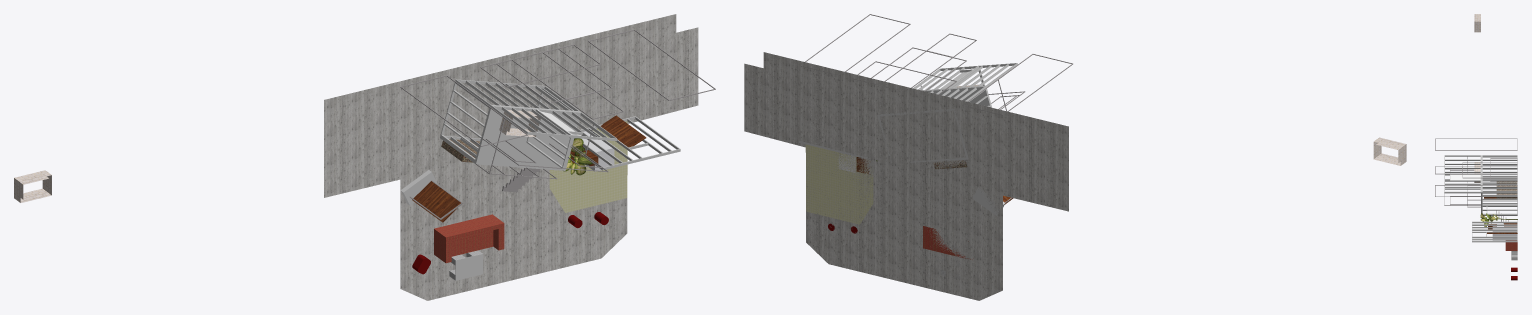
The picture shows the model from 3 angles, left to right: view 1: azimuth 30°, elevation 25°; view 2: azimuth 150°, elevation 25°; view 3: azimuth 270°, elevation 25°; orthographic projection. The views are drawn at different scales.
Parts seen in each view (by area): view 1: Set.621, Set.706, Set.610, Set.611, Set.646, Set.616, Set.609, Set.636, Set.613, Set.612, Set.658, Set.671; view 2: Set.621, Set.610, Set.609, Set.616; view 3: Set.635, Set.671, Set.411, Set.713, Set.641, Set.652, Set.609, Set.615, Set.735, Set.739, Set.682, Set.695 (+40 smaller).
Boxes of the visible parts, bbox=[...] form: Set.621: bbox=[324, 14, 698, 300]; Set.706: bbox=[475, 105, 580, 170]; Set.610: bbox=[549, 121, 627, 212]; Set.611: bbox=[434, 214, 504, 241]; Set.646: bbox=[412, 181, 460, 222]; Set.616: bbox=[434, 214, 497, 256]; Set.609: bbox=[14, 170, 51, 202]; Set.636: bbox=[600, 115, 646, 147]; Set.613: bbox=[455, 253, 482, 280]; Set.612: bbox=[499, 109, 540, 137]; Set.658: bbox=[400, 170, 437, 205]; Set.671: bbox=[580, 131, 614, 171]; Set.621: bbox=[744, 52, 1068, 300]; Set.610: bbox=[805, 144, 873, 224]; Set.609: bbox=[1373, 137, 1406, 165]; Set.616: bbox=[923, 227, 973, 259]; Set.635: bbox=[1496, 181, 1517, 198]; Set.671: bbox=[1492, 226, 1517, 240]; Set.411: bbox=[1450, 174, 1480, 180]; Set.713: bbox=[1436, 173, 1516, 174]; Set.641: bbox=[1472, 221, 1517, 223]; Set.652: bbox=[1472, 236, 1517, 238]; Set.609: bbox=[1474, 14, 1480, 32]; Set.615: bbox=[1505, 240, 1517, 250]; Set.735: bbox=[1463, 177, 1516, 178]; Set.739: bbox=[1445, 191, 1480, 193]; Set.682: bbox=[1482, 175, 1517, 177]; Set.695: bbox=[1482, 191, 1517, 193].
Size of what is drawn, in the model's own units: 28110 by 9667 by 5488.
Materials: 16 (13 with a texture image).
